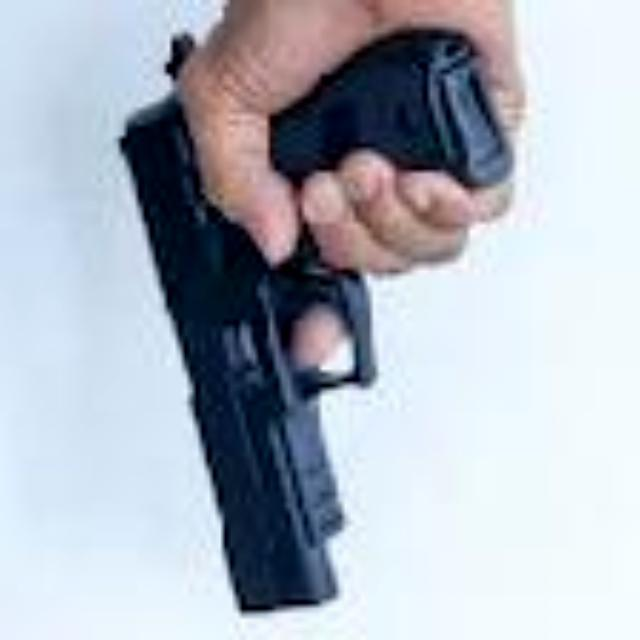pistol: (112, 0, 516, 626), (126, 0, 537, 611)
